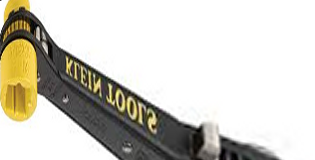Wrench: (2, 1, 282, 160)
